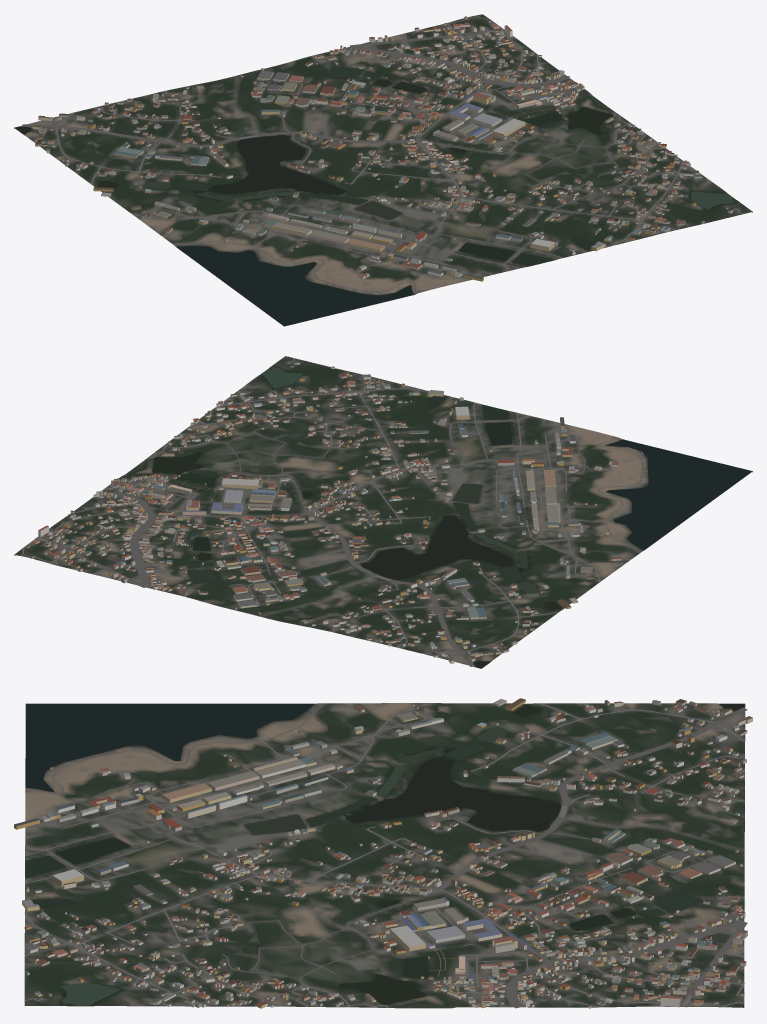
3 renders of one model, top to bottom at view 1: azimuth 30°, elevation 25°; view 2: azimuth 150°, elevation 25°; view 3: azimuth 270°, elevation 25°, orthographic. The views are drawn at different scales.
Visible parts, largest first — view 1: ground, buildings, water, roads; view 2: ground, buildings, water, roads; view 3: ground, buildings, water, roads.
Part boxes in pixels (x1,y1,x2,y2): ground: (14,14,752,326); buildings: (32,16,733,294); water: (15,66,733,325); roads: (22,15,744,293); ground: (14,356,752,668); buildings: (26,361,642,663); water: (126,367,751,668); roads: (20,358,643,666); ground: (24,703,745,1008); buildings: (14,698,752,1008); water: (25,703,744,1007); roads: (24,703,747,1008).
Bounding box in the file's own units: 1422 × 27.18 × 1440.
